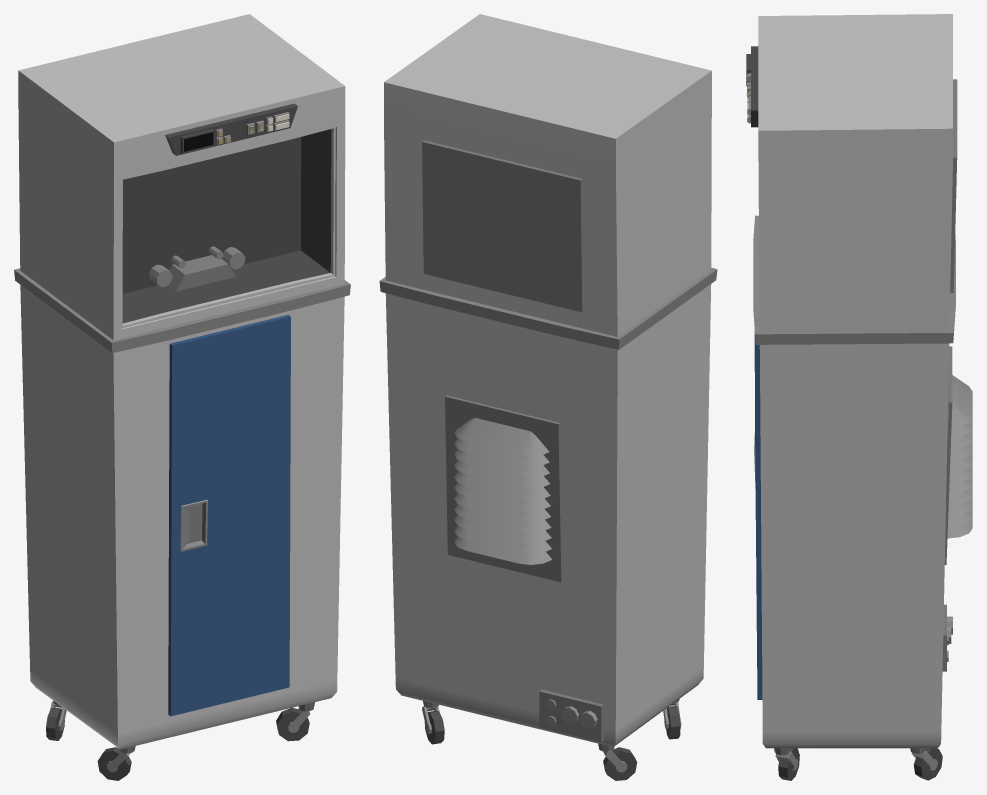
Rendered from Office Machine_2.fbx.
3 renders of one model, left to right at view 1: azimuth 30°, elevation 25°; view 2: azimuth 150°, elevation 25°; view 3: azimuth 270°, elevation 25°, orthographic.
Visible parts, largest first — view 1: Cube.000; view 2: Cube.000; view 3: Cube.000.
Boxes of the visible parts, bbox=[...] form: Cube.000: bbox=[14, 14, 350, 780]; Cube.000: bbox=[379, 14, 717, 780]; Cube.000: bbox=[746, 14, 972, 780].
Size of the model in its own units: 0.8364 by 0.674 by 2.19.
